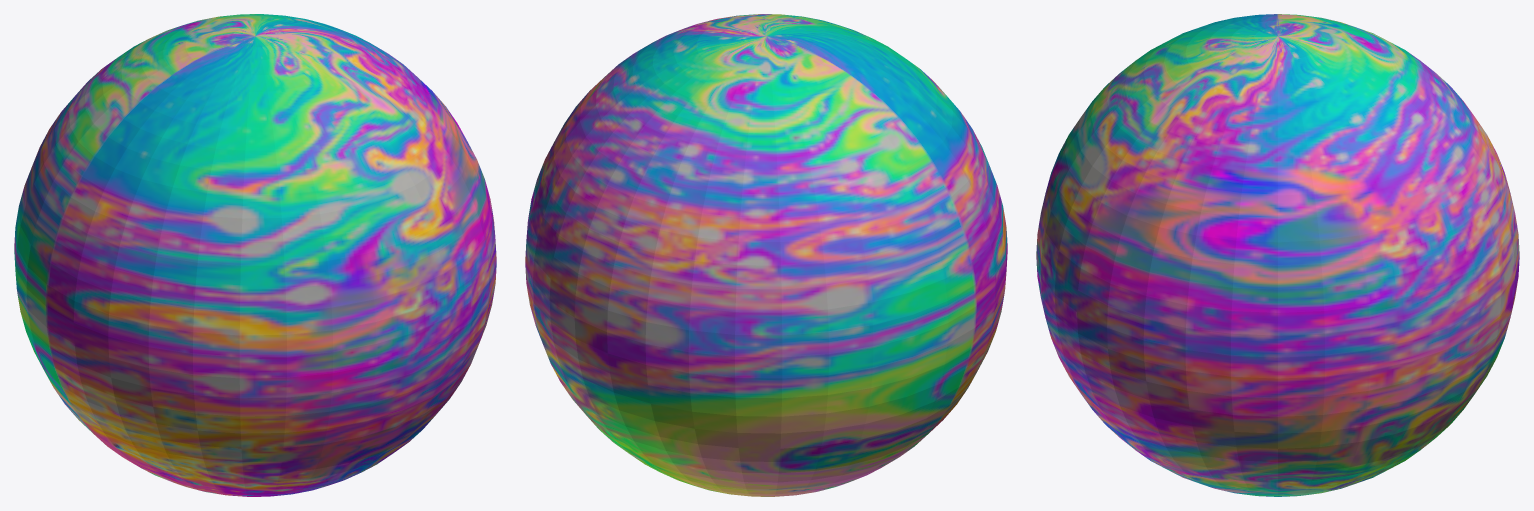
Rendered from bubble.glb.
3 renders of one model, left to right at view 1: azimuth 30°, elevation 25°; view 2: azimuth 150°, elevation 25°; view 3: azimuth 270°, elevation 25°, orthographic.
Visible parts, largest first — view 1: Sphere; view 2: Sphere; view 3: Sphere.
Boxes of the visible parts, x1,y1,x2,y2 form: Sphere: [14, 14, 496, 496]; Sphere: [525, 14, 1007, 496]; Sphere: [1036, 14, 1519, 496].
Size of the model in its own units: 2 by 2 by 2.
1 material, 1 textured.
